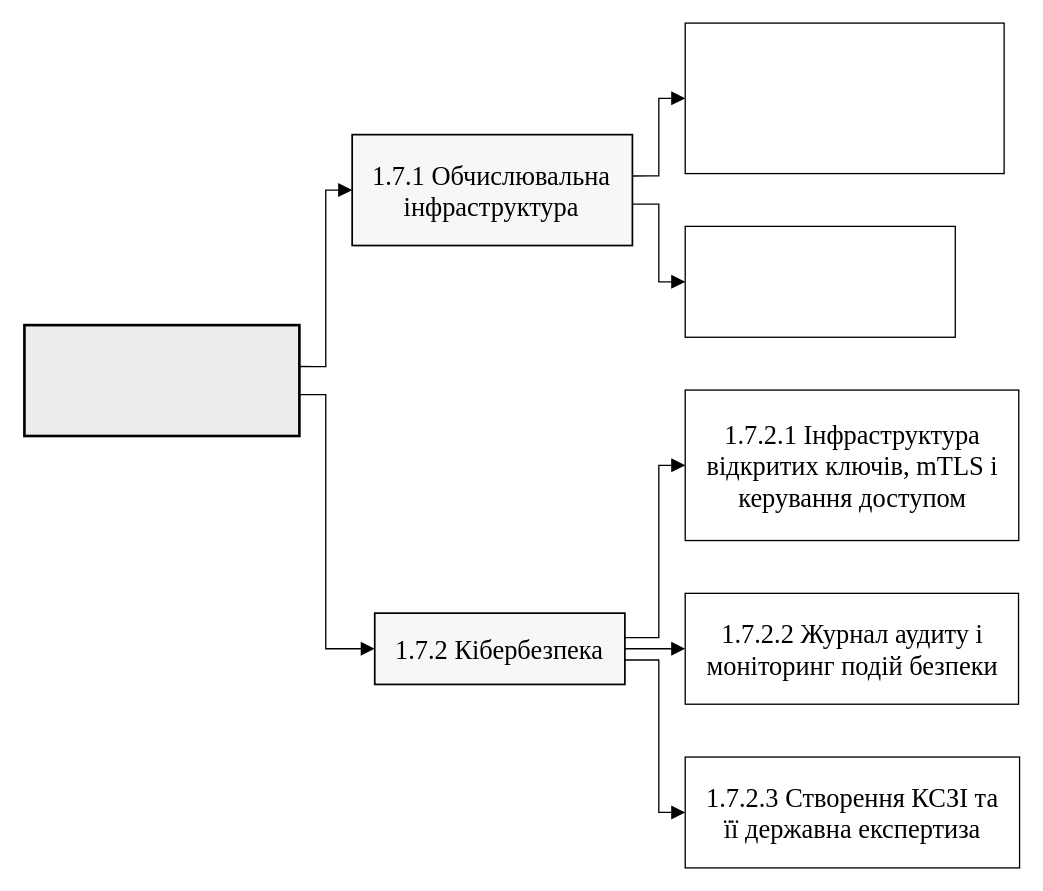
This 1043x891 diagram has some shape labels left out. Here are the shapes that lost their labels. From the top down, the centre of each, then its label:
At (844,98): "1.7.1.1 Розгортання основного та резервного ЦОД".
At (819,281): "1.7.1.2 Шина подій і сховища даних".
At (161,380): "1.7 Інфраструктура та кібербезпека".
